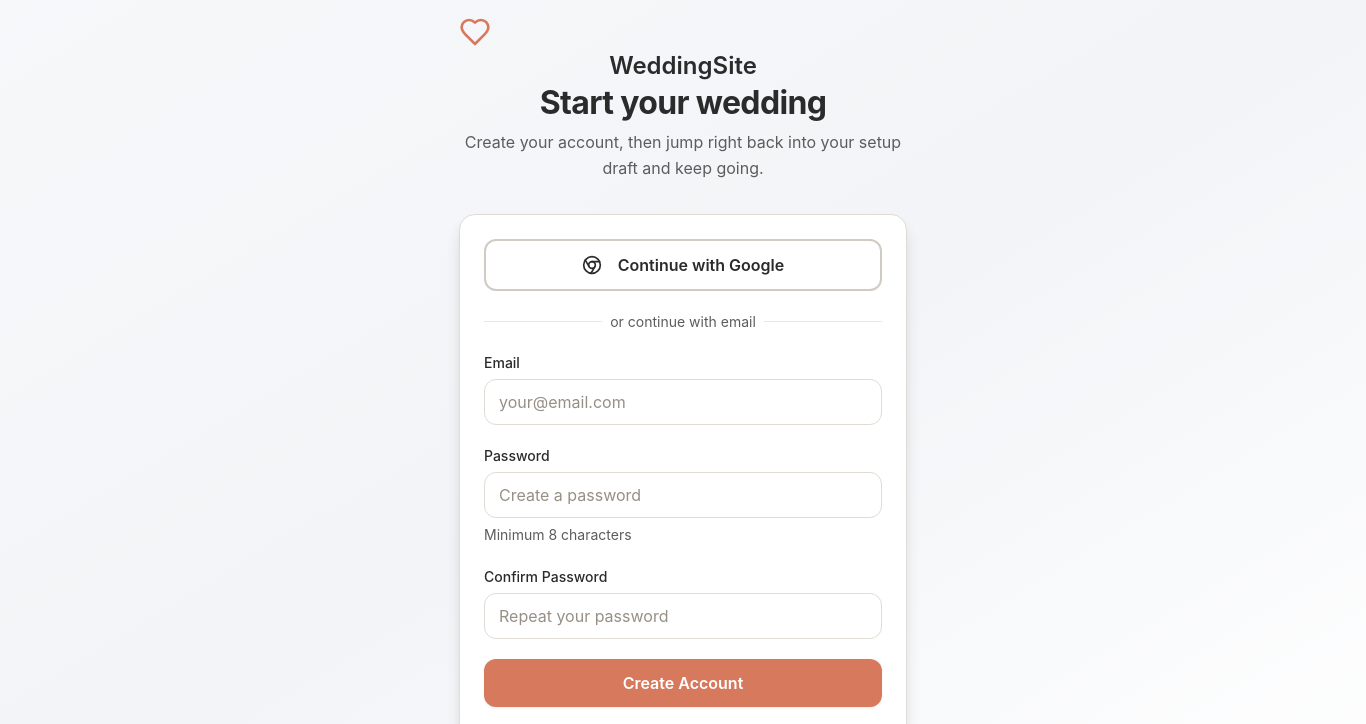
Signup quick start handoff › masks provider-heavy Google signup failures behind calm signup copy
Click the button "Continue with Google" at (683, 265), box [484,239,882,291]
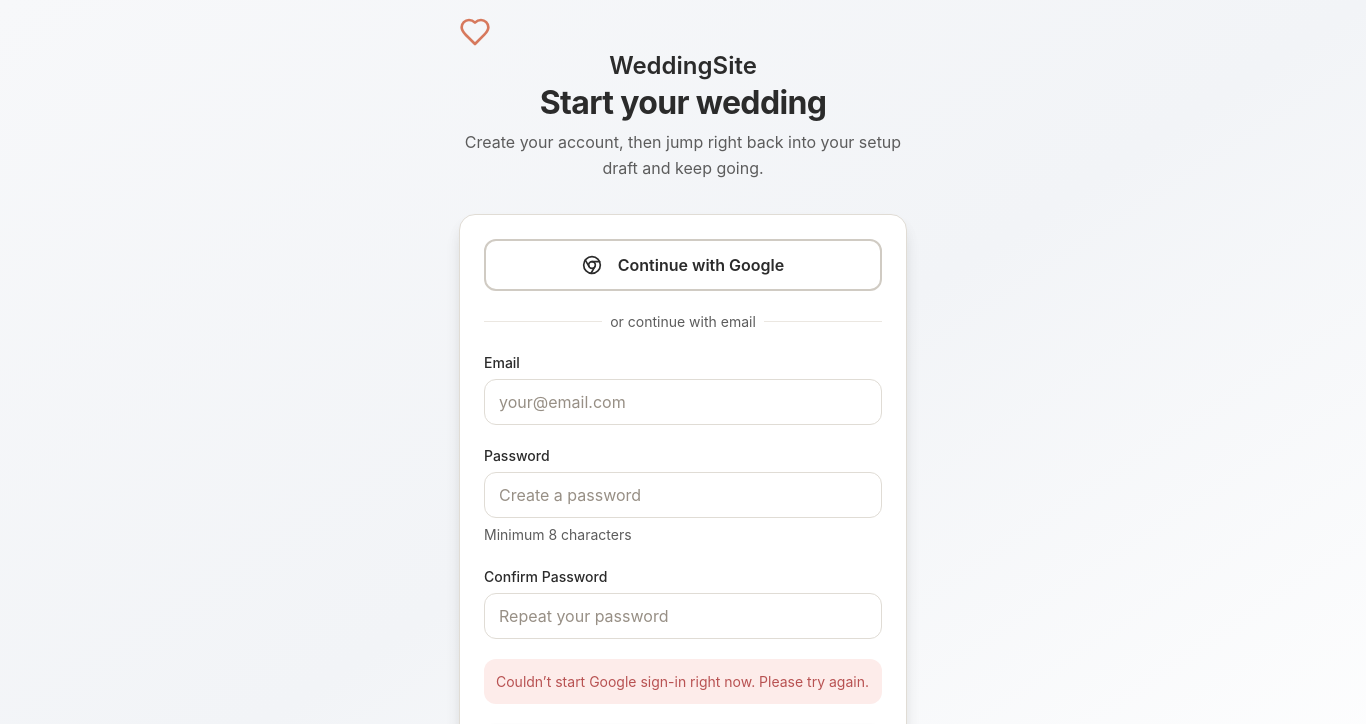
Result: the text "Couldn’t start Google sign-in right now. Please try again." is shown at [484,659,882,704]
